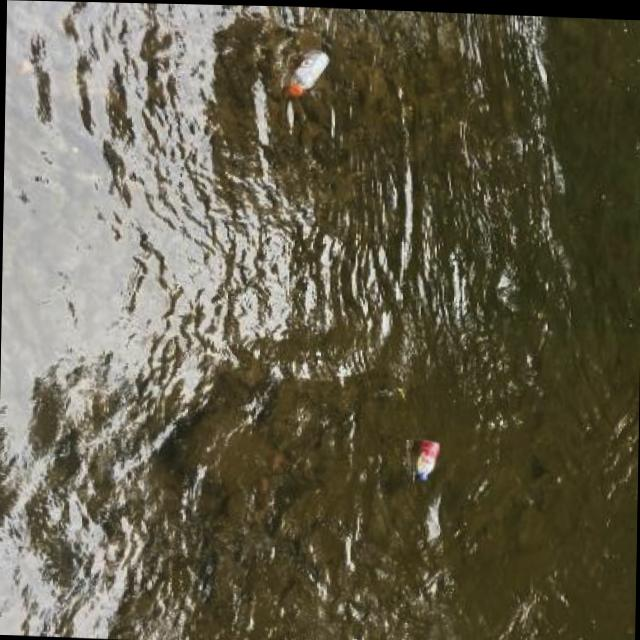Plastic: (276, 40, 335, 106), (406, 431, 447, 485)
